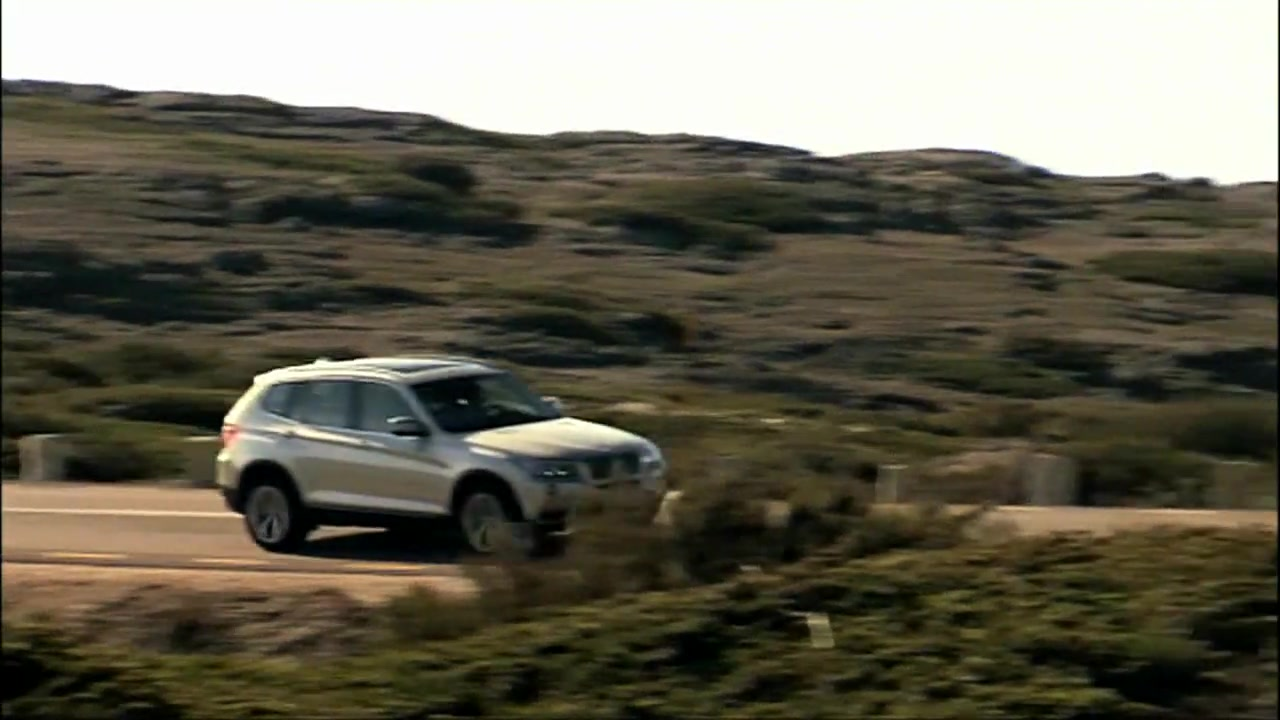car: (210, 360, 667, 556)
